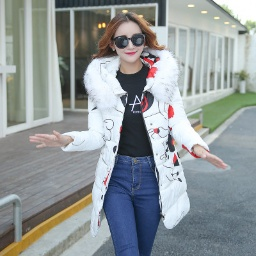face: (97, 14, 163, 66)
